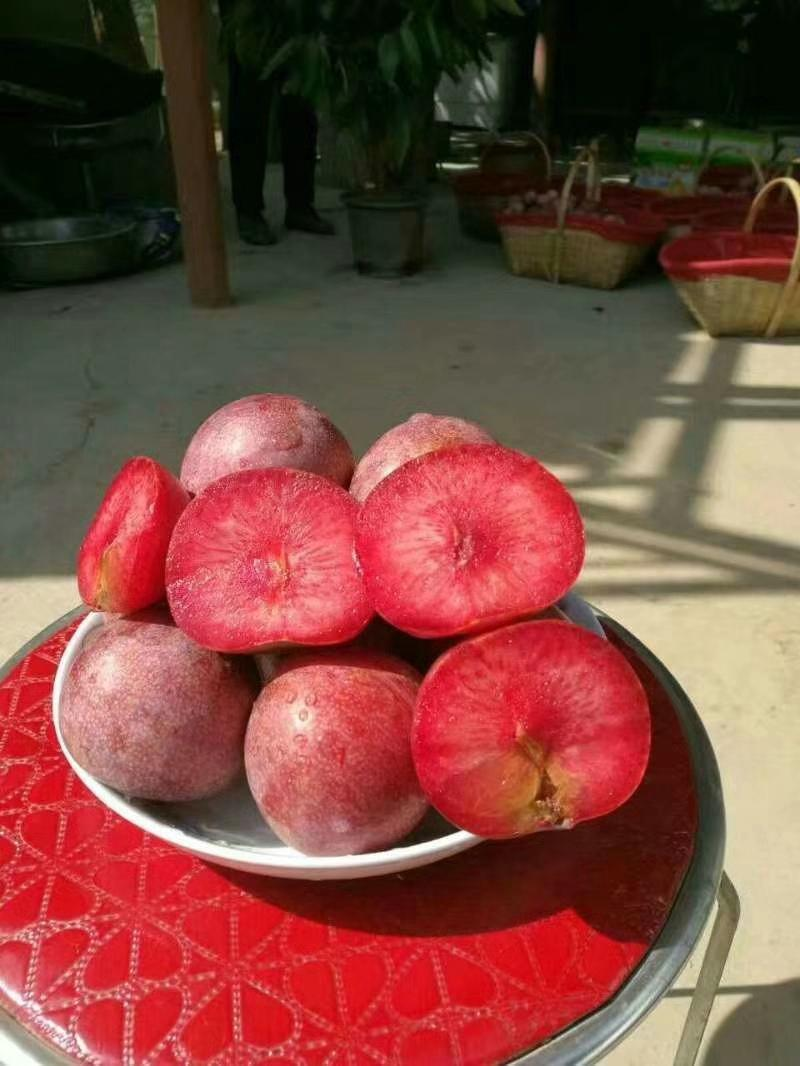apple: (413, 613, 653, 836), (350, 440, 587, 633), (162, 464, 378, 649), (62, 618, 245, 811), (248, 657, 430, 850)
